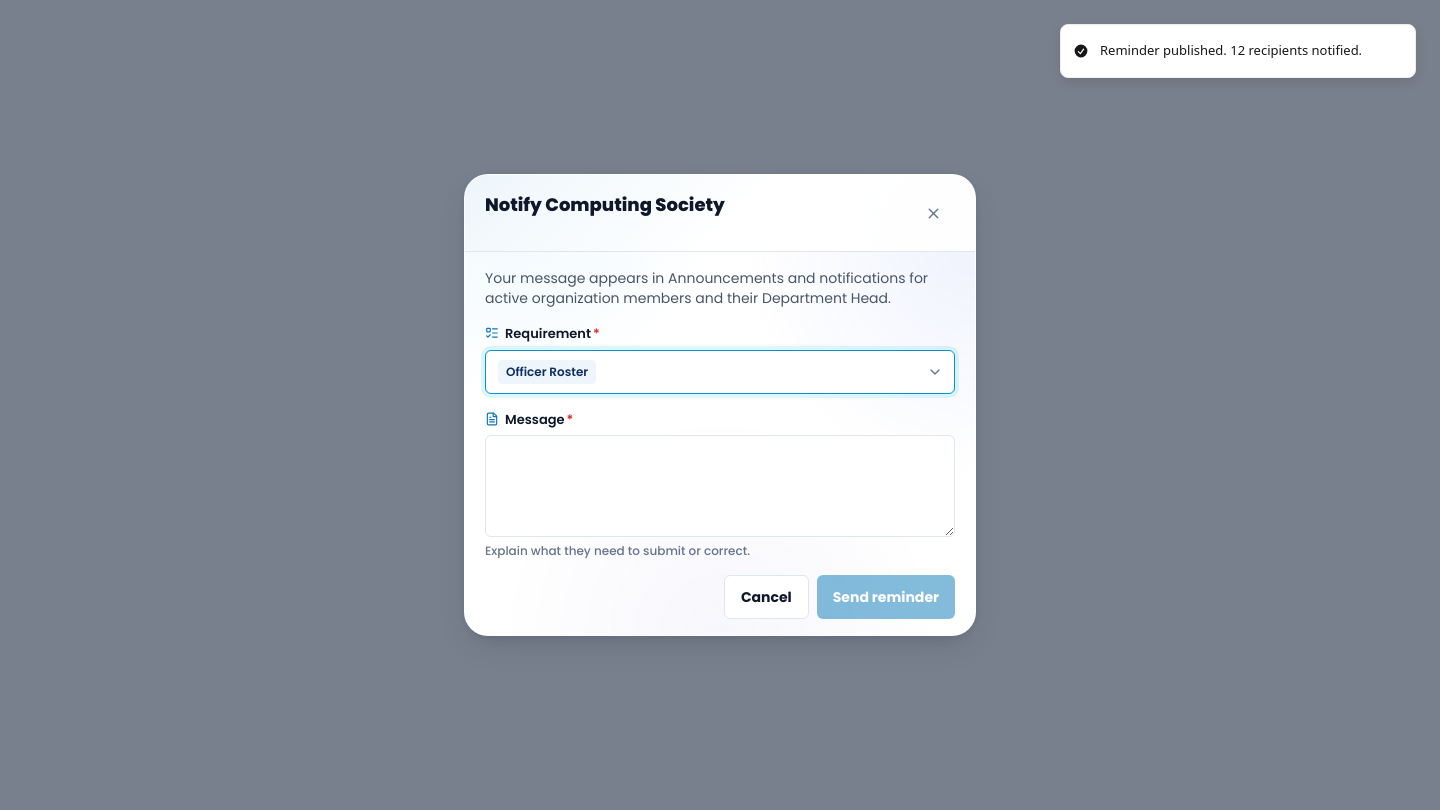
Compliance reminder › keeps the message available after a failed send
Type "Please submit a signed roster." into the text box labelled "Message*". click: (720, 486)
box: [485,435,955,537]
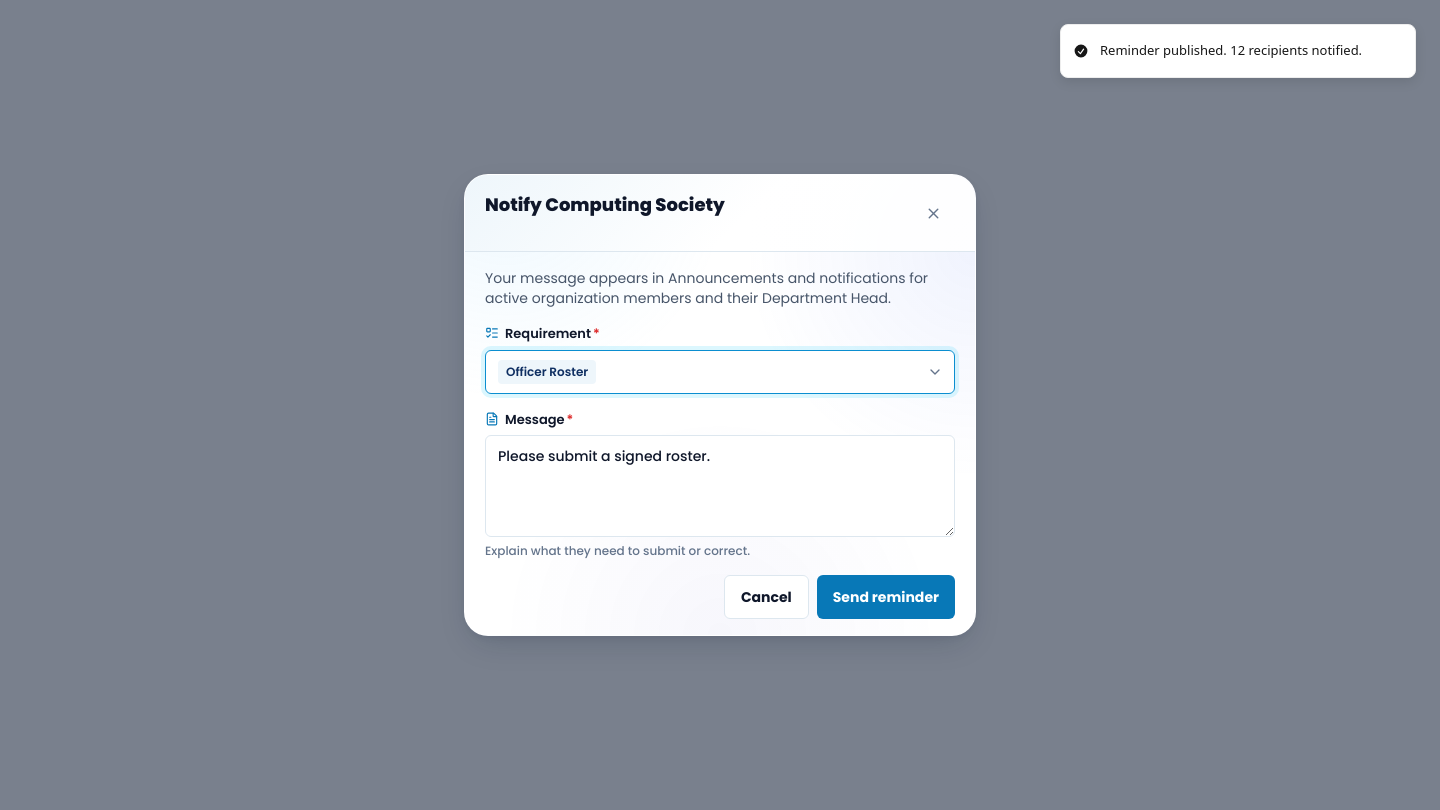
Click the button "Send reminder". click: (886, 597)
box: [817,575,955,619]
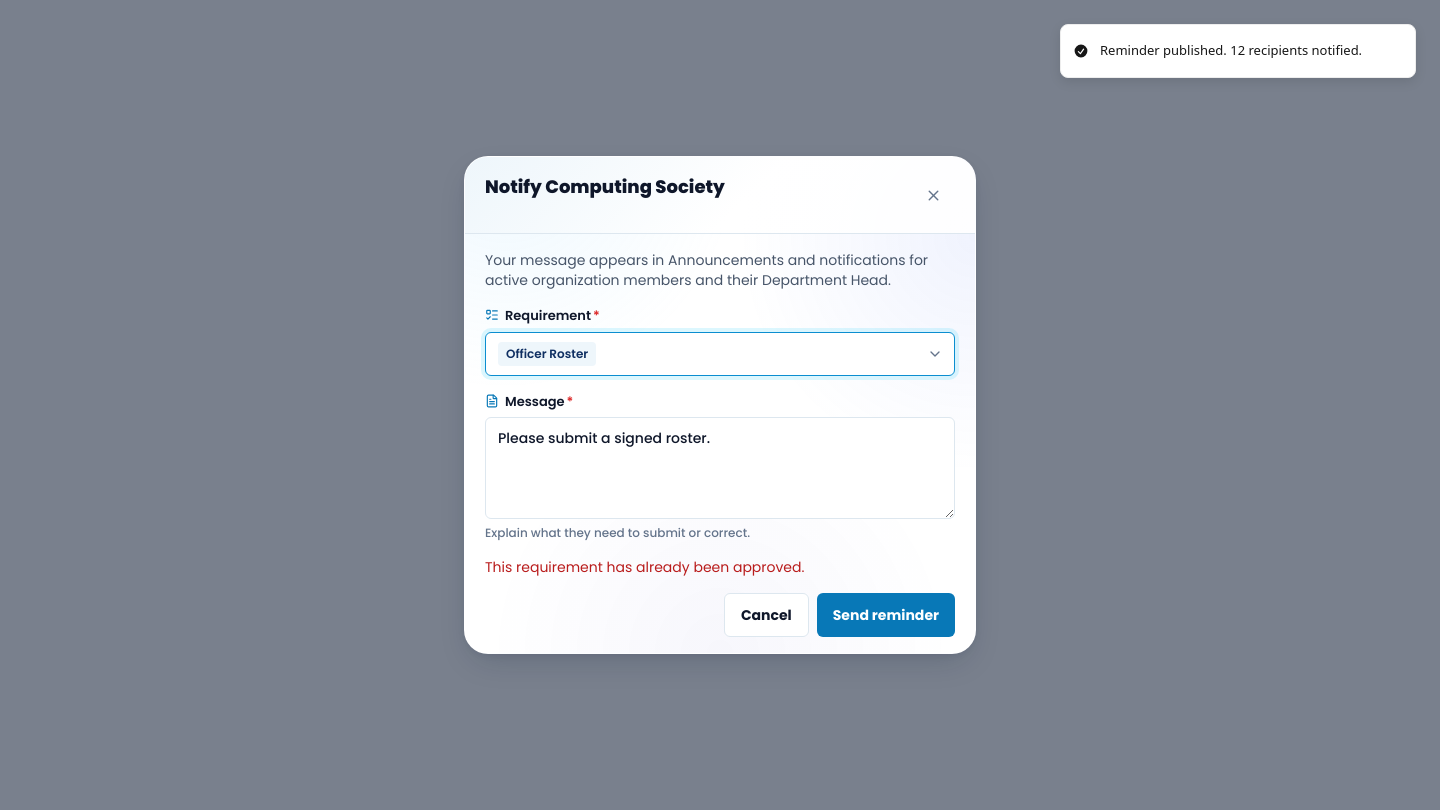
Expected: the message shows "already been approved", [485,557,804,577]
